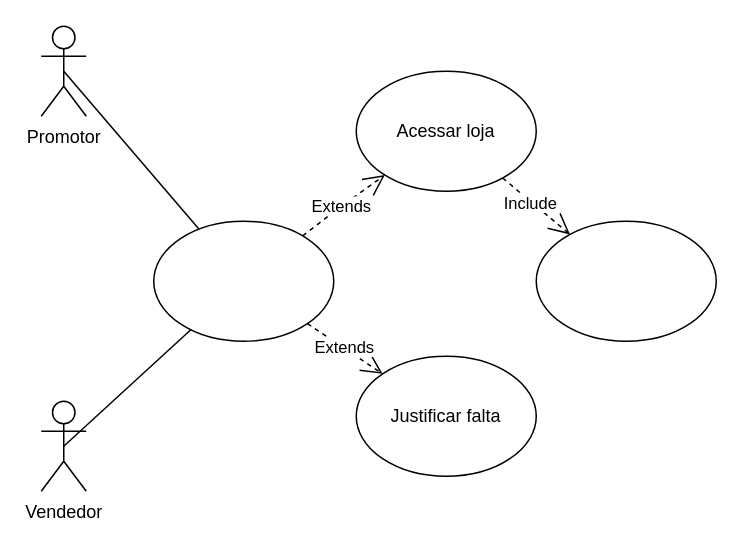
The diagram is 743 pixels wide and 549 high, and some of its shapes have lost their labels. The centre of each missing label's shape, as x and y in pixels:
Roteiro diário: the point at 243,280
Rotina de entrada: the point at 625,280
